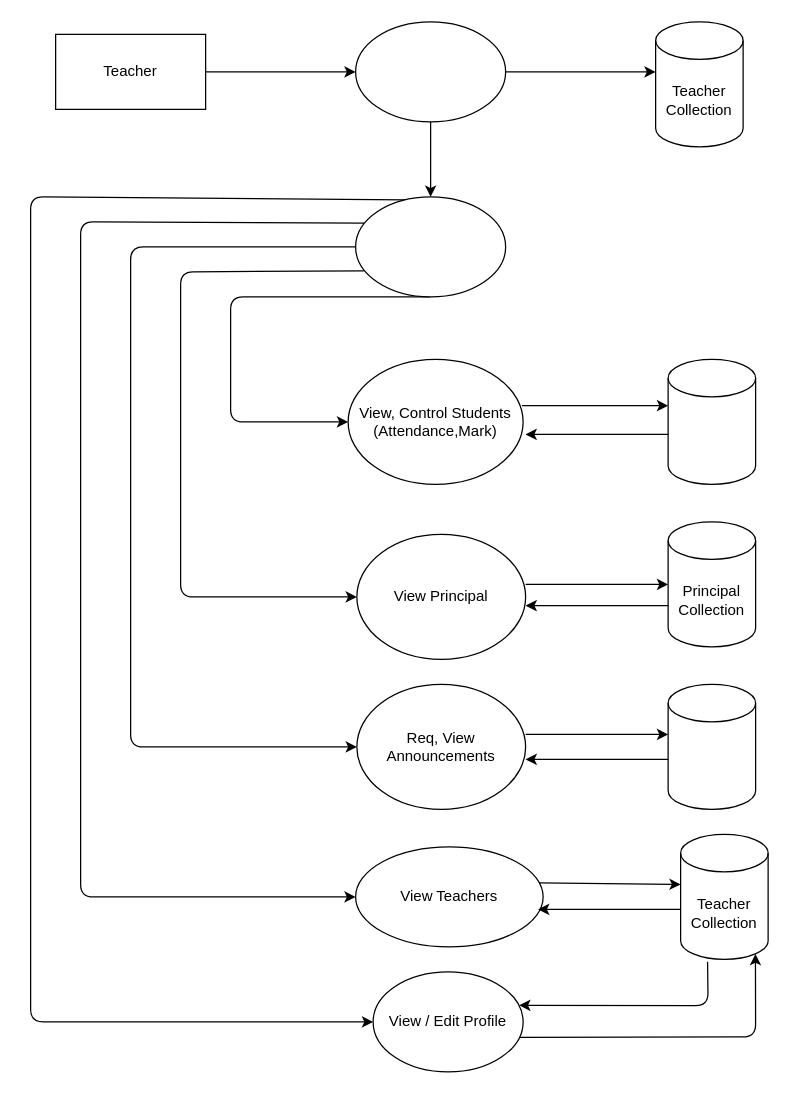
Image size: 790x1094. Some labels were removed from this diagram. Here are the shapes that lost their labels. From the top down, the centre of each, then its label:
point (430, 71): Signin
point (430, 246): Login
point (711, 421): Student Collection
point (711, 746): Announcement Collection
